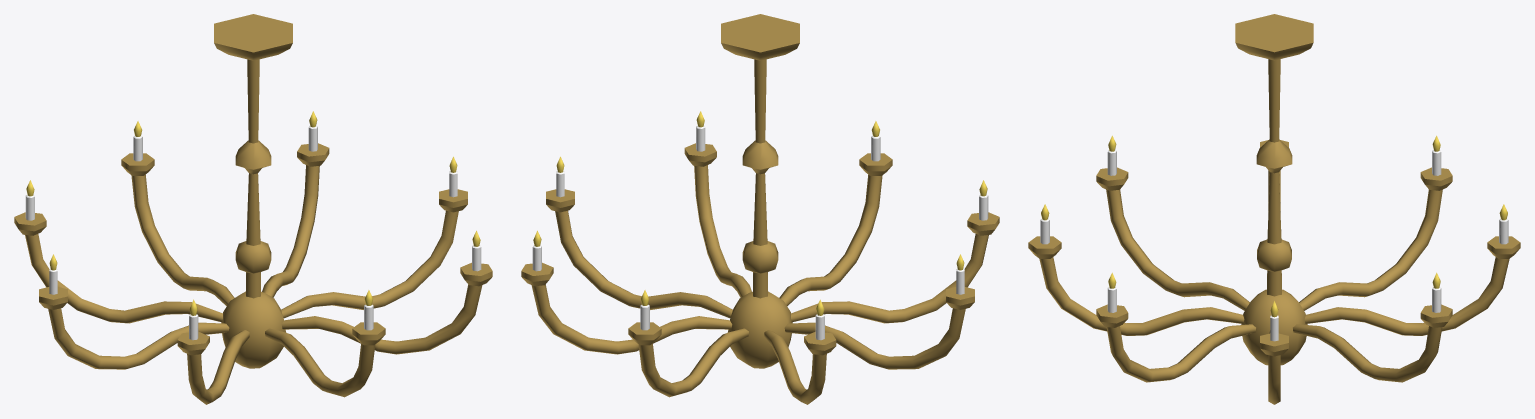
Rendered from BallroomChandelierUV.fbx.
The picture shows the model from 3 angles, left to right: view 1: azimuth 30°, elevation 25°; view 2: azimuth 150°, elevation 25°; view 3: azimuth 270°, elevation 25°; orthographic projection.
Parts seen in each view (by area): view 1: Chandelier:RoadKillOut; view 2: Chandelier:RoadKillOut; view 3: Chandelier:RoadKillOut.
Boxes of the visible parts, box(x1,y1,x2,y2) form: Chandelier:RoadKillOut: box(14, 14, 492, 404); Chandelier:RoadKillOut: box(521, 14, 999, 404); Chandelier:RoadKillOut: box(1028, 14, 1520, 404).
Bounding box in the file's own units: 154 × 114 × 154.
